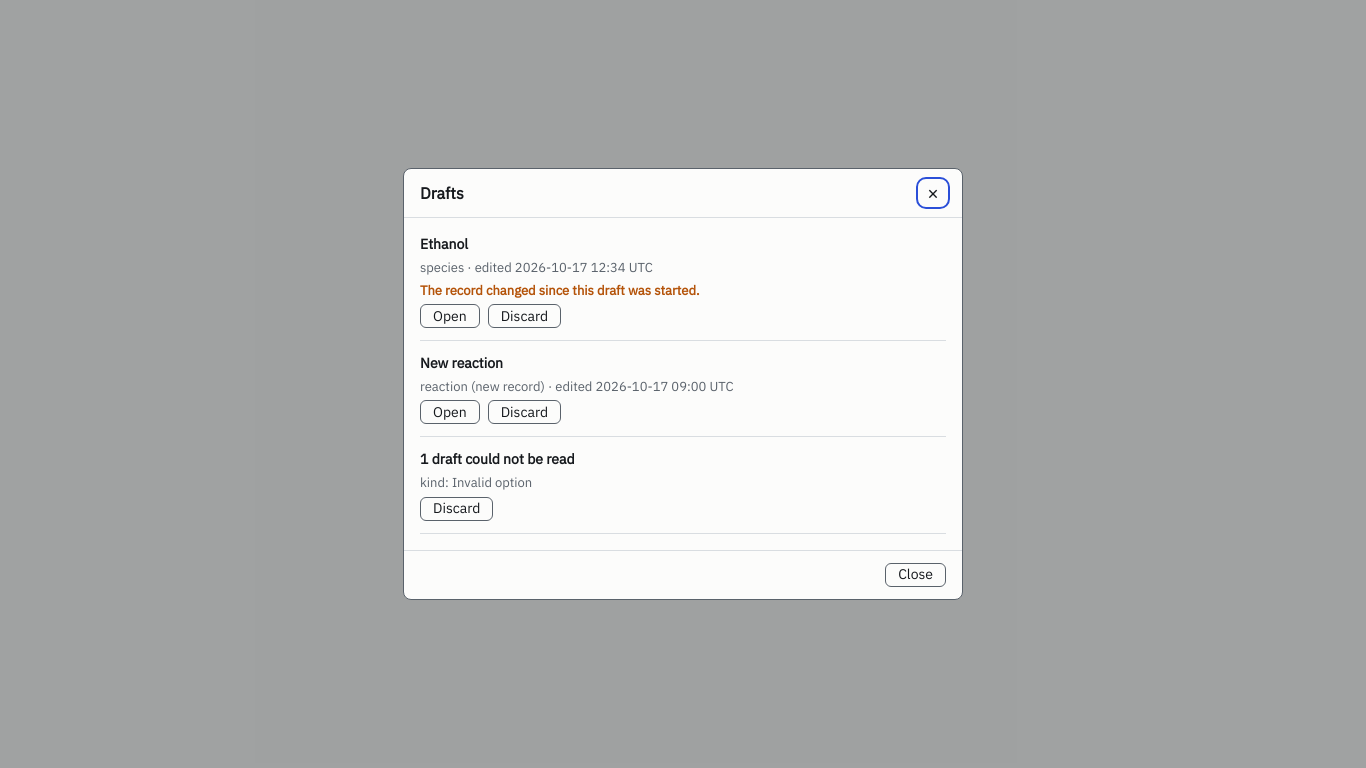
Test: DraftsDialog › Discard asks first ("Discard this draft? It cannot be undone."); Keep it changes nothing; Discard removes it
Click the button "Discard" below "Ethanol": click(524, 316) x1=488 y1=304 x2=561 y2=328
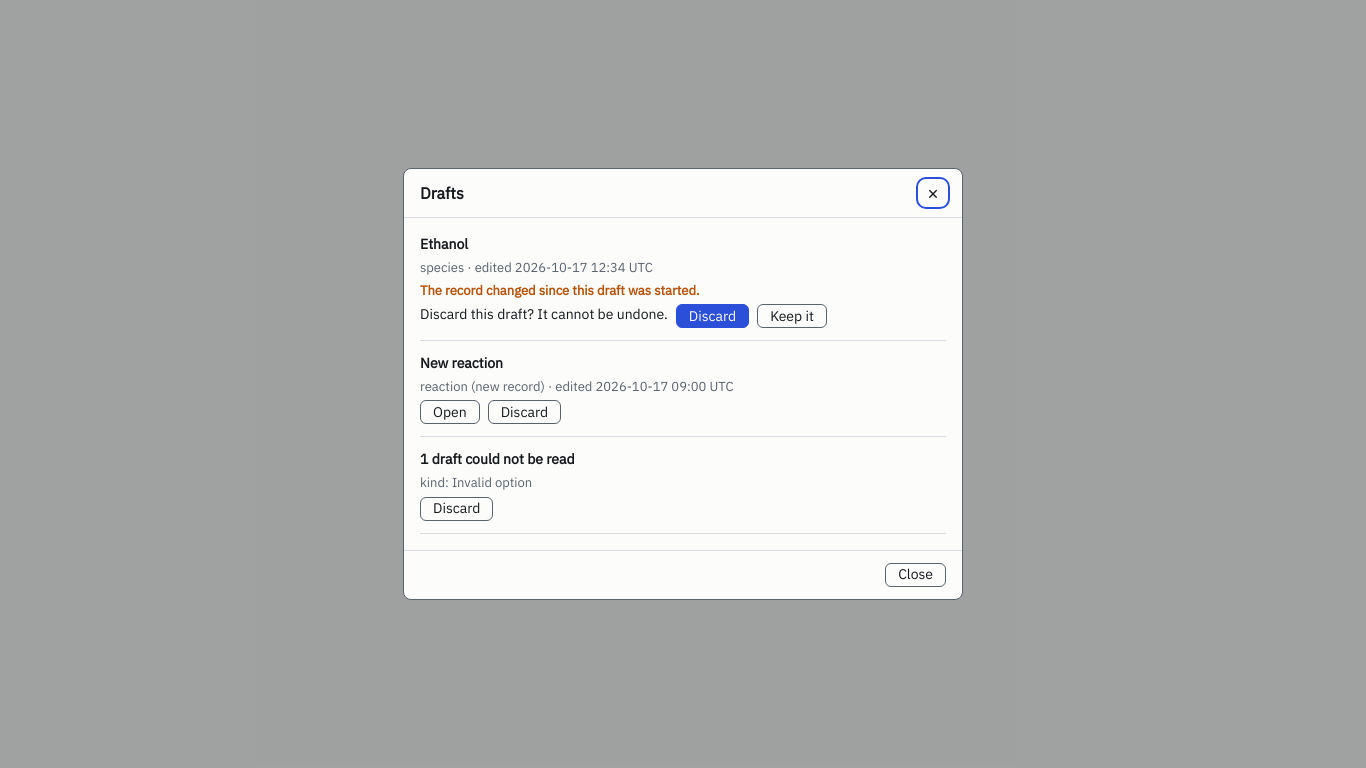
Expected: the text "Discard this draft? It cannot be undone." is shown, x1=420 y1=304 x2=668 y2=328
Click the button "Keep it": click(792, 316) x1=757 y1=304 x2=827 y2=328
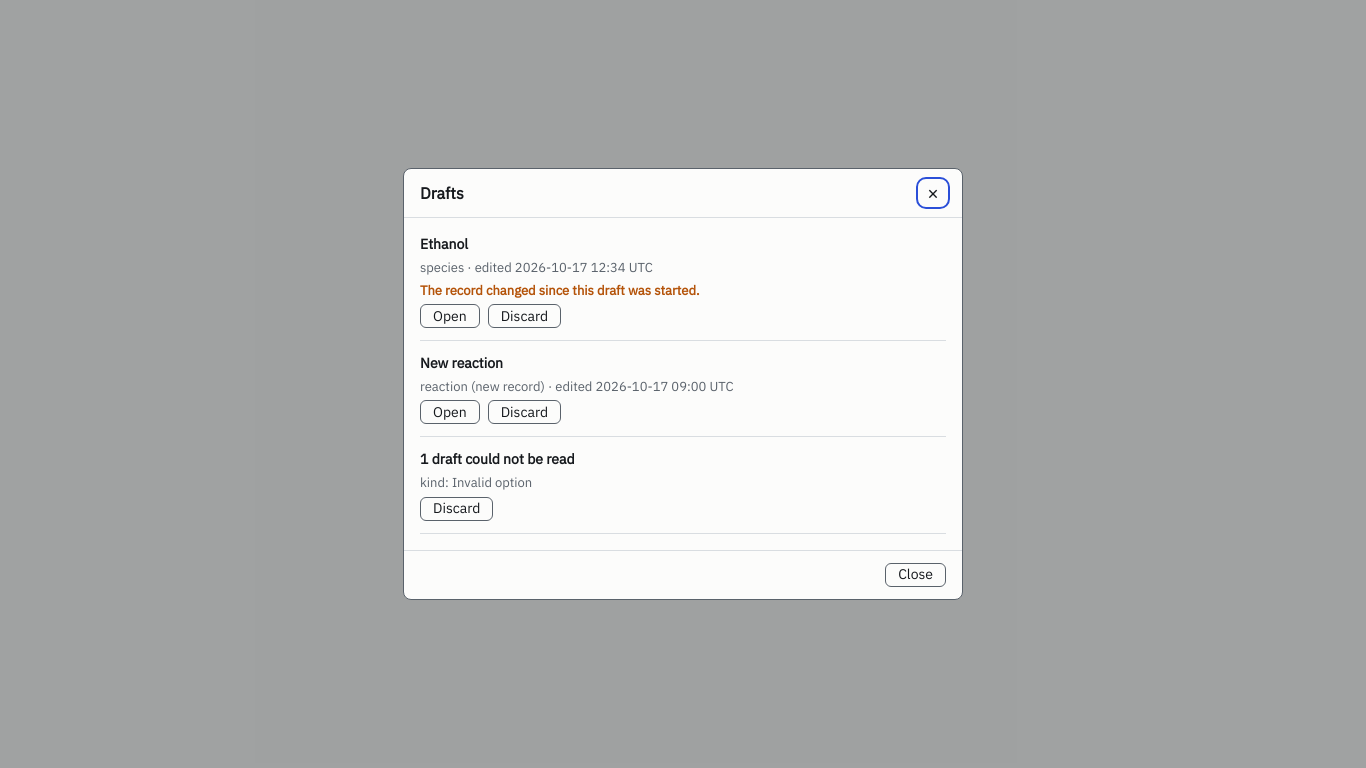
Expected: the text "cannot be undone" is gone
Click the button "Discard" below "Ethanol": click(524, 316) x1=488 y1=304 x2=561 y2=328
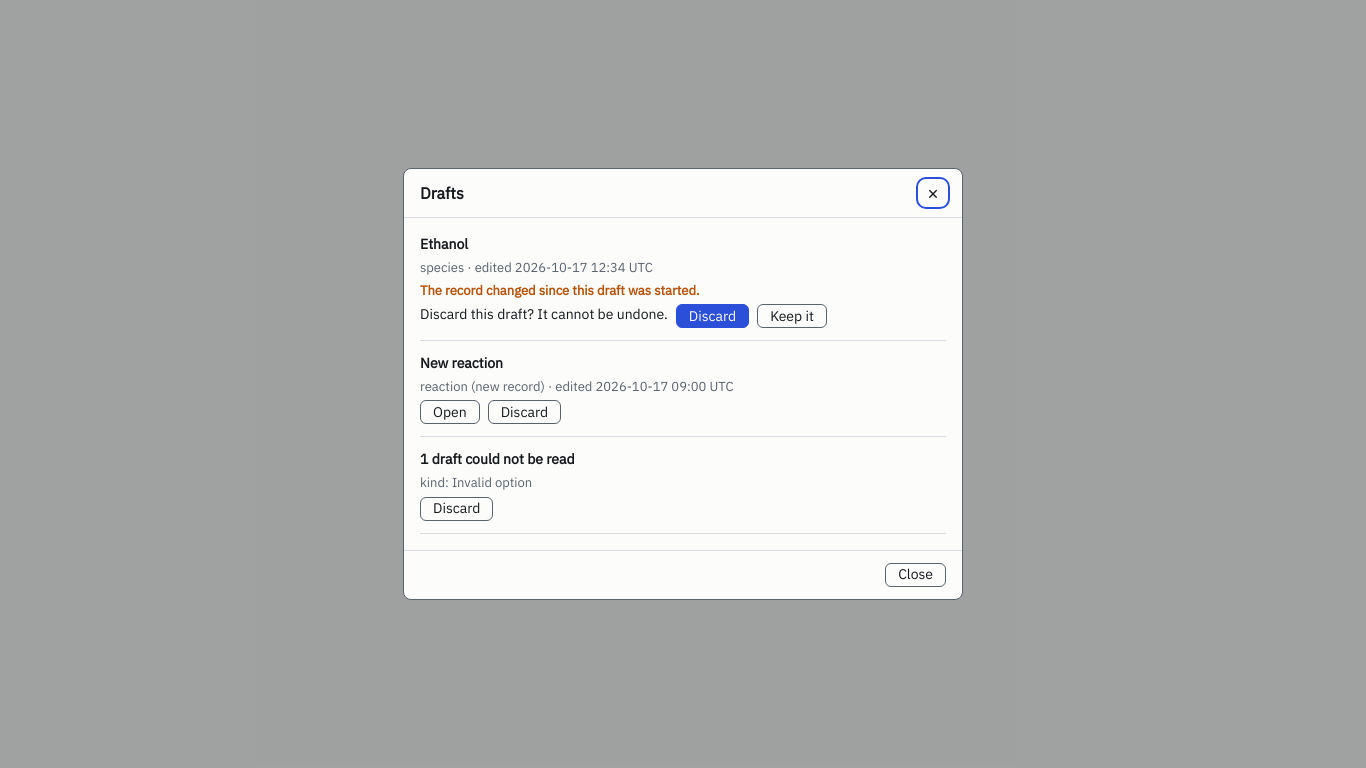
Click the button "Discard" next to "Discard this draft? It cannot be undone.": click(712, 316) x1=676 y1=304 x2=749 y2=328
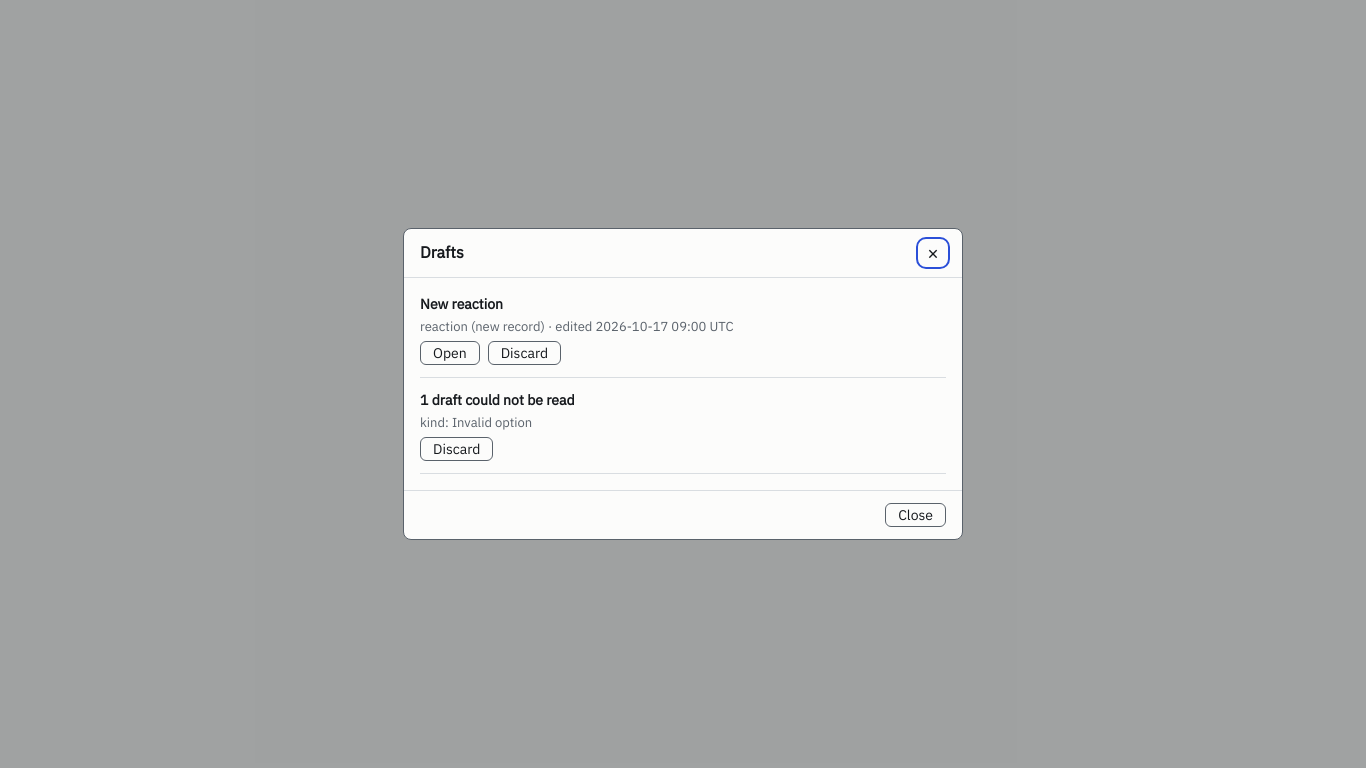
Expected: the text "Ethanol" is gone
